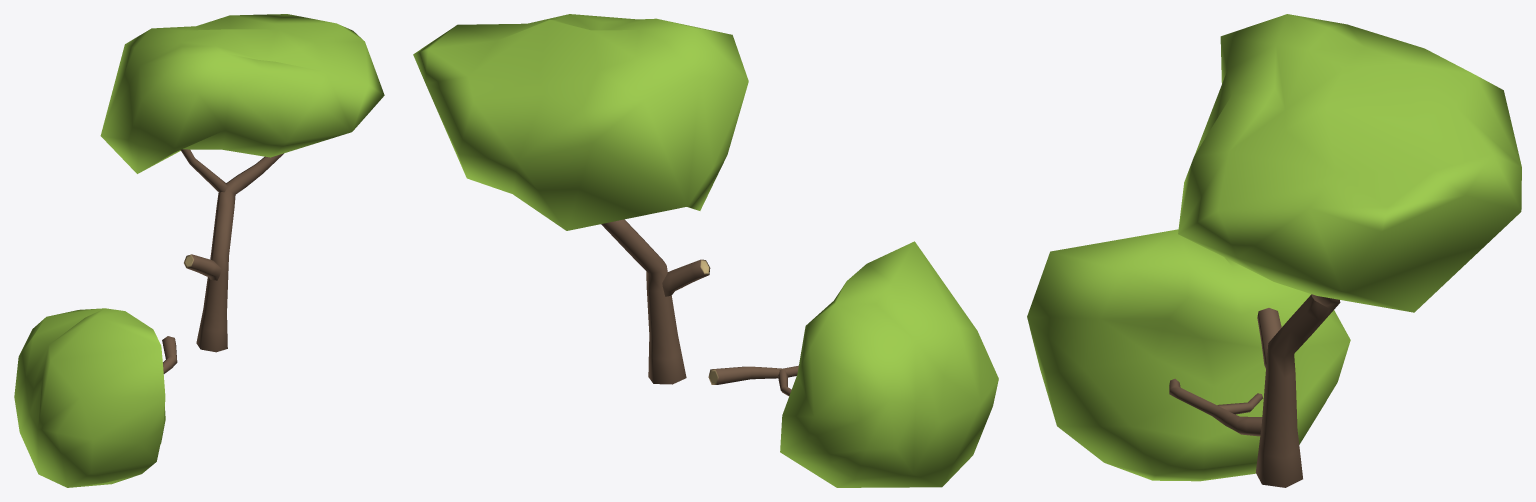
The model's file is tree_cut_2.fbx.
3 views of the same model, side by side, from view 1: azimuth 30°, elevation 25°; view 2: azimuth 150°, elevation 25°; view 3: azimuth 270°, elevation 25° (orthographic). The views are drawn at different scales.
Visible parts, largest first — view 1: Tube; view 2: Tube; view 3: Tube.
Boxes of the visible parts, x1,y1,x2,y2 form: Tube: (14, 14, 384, 487); Tube: (413, 14, 998, 487); Tube: (1027, 14, 1521, 487).
Bounding box in the file's own units: 320 × 287 × 233.
